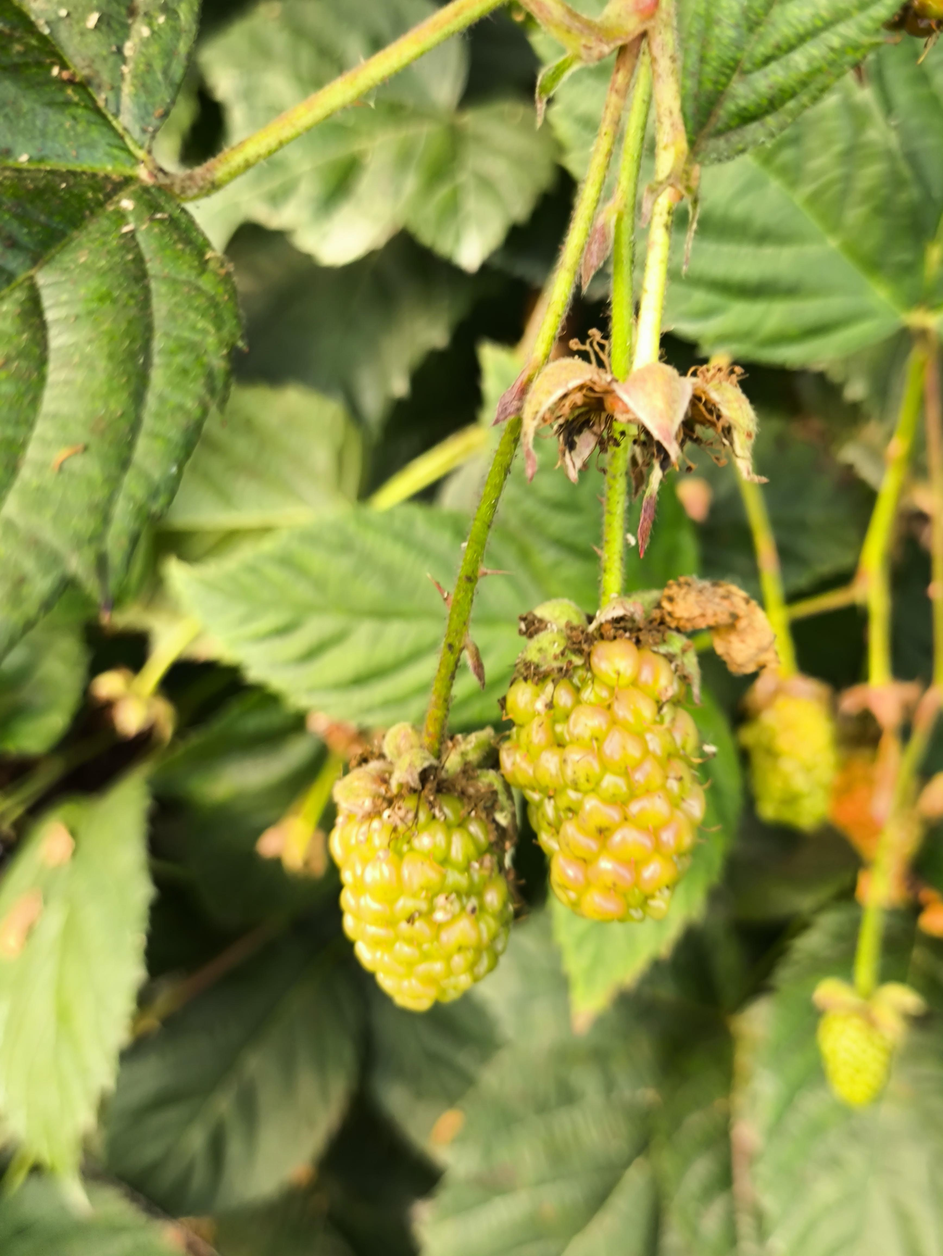verde: (501, 602, 705, 923), (331, 759, 513, 1011), (738, 675, 837, 831)
